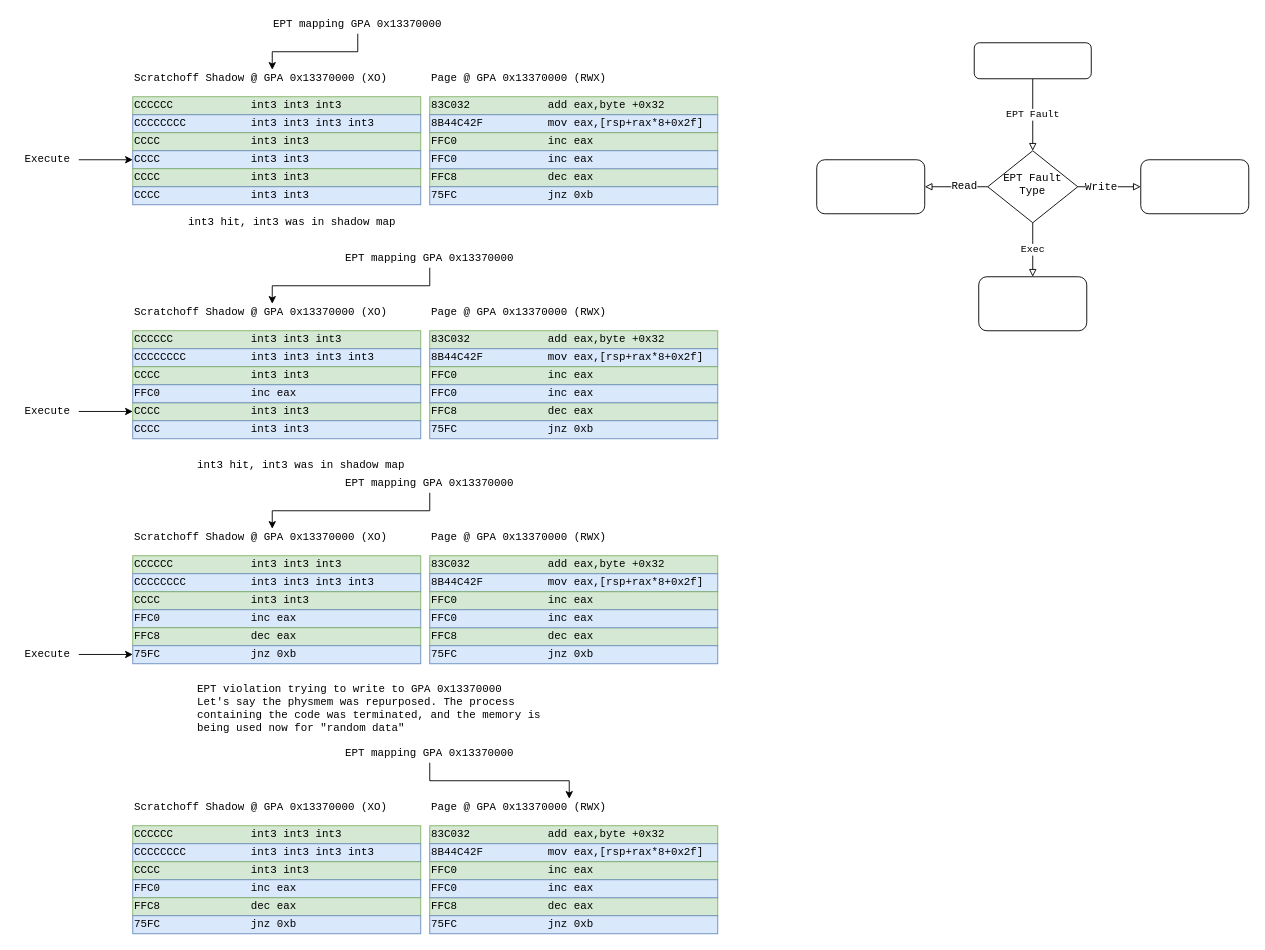
The diagram is 1265 pixels wide and 950 high, and some of its shapes have lost their labels. The shapes that lost their labels are listed below. From the top down, each one's box as (x1, y1, x2, y2) in pixels, then its label:
(973, 42, 1091, 79): EPT Page Unmapped
(816, 159, 925, 214): Map in original page as read+exec
(1140, 159, 1249, 214): Copy original page and map as read+write+exec
(978, 276, 1087, 331): Map in page full of int3s as execute-only
